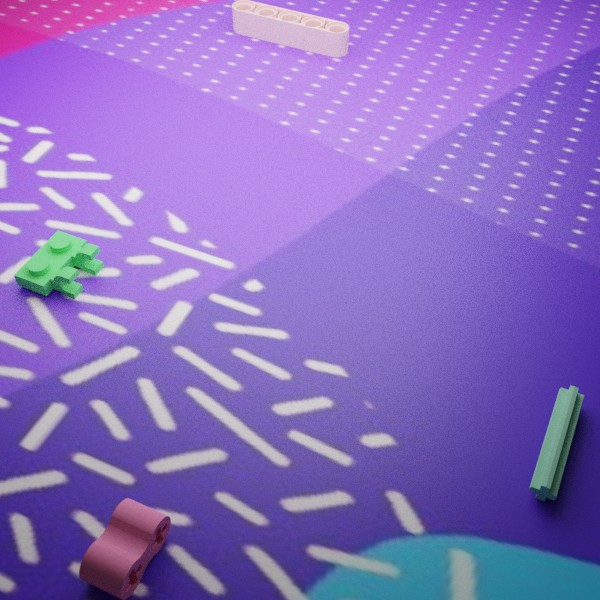lego: (79, 498, 170, 600), (232, 0, 349, 57), (529, 385, 584, 501), (13, 230, 103, 299)
